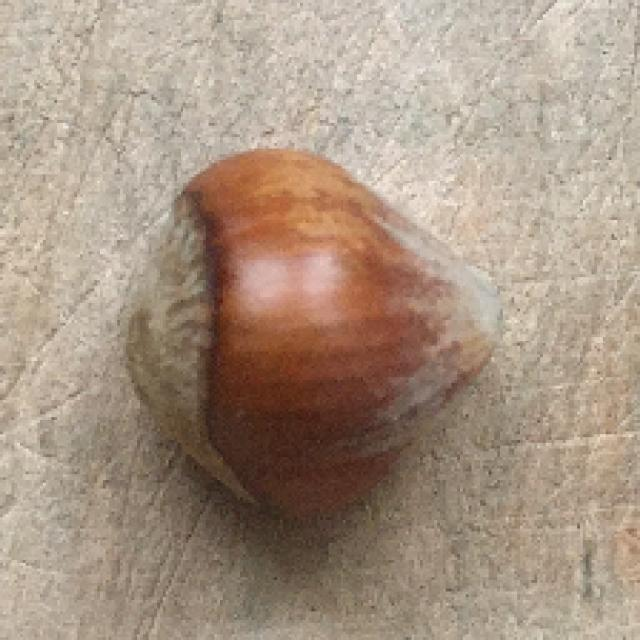qualityHazelnut: (110, 136, 512, 540)
